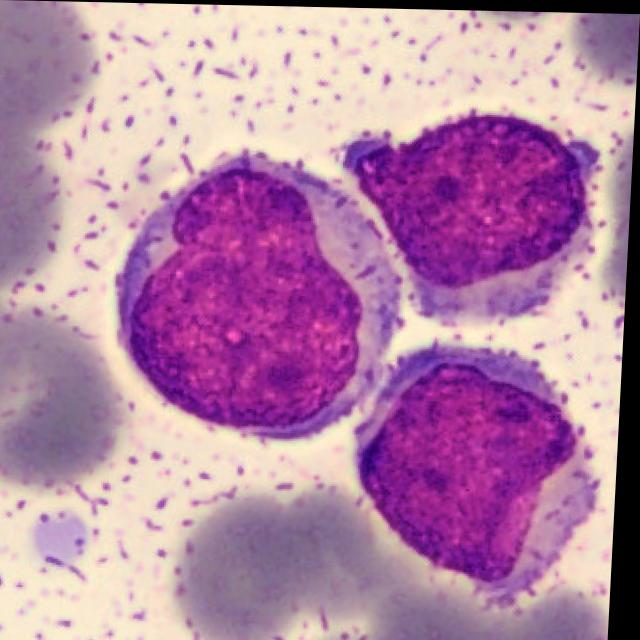Mieloblasto: (117, 149, 408, 436), (357, 338, 605, 607), (346, 107, 603, 312)
